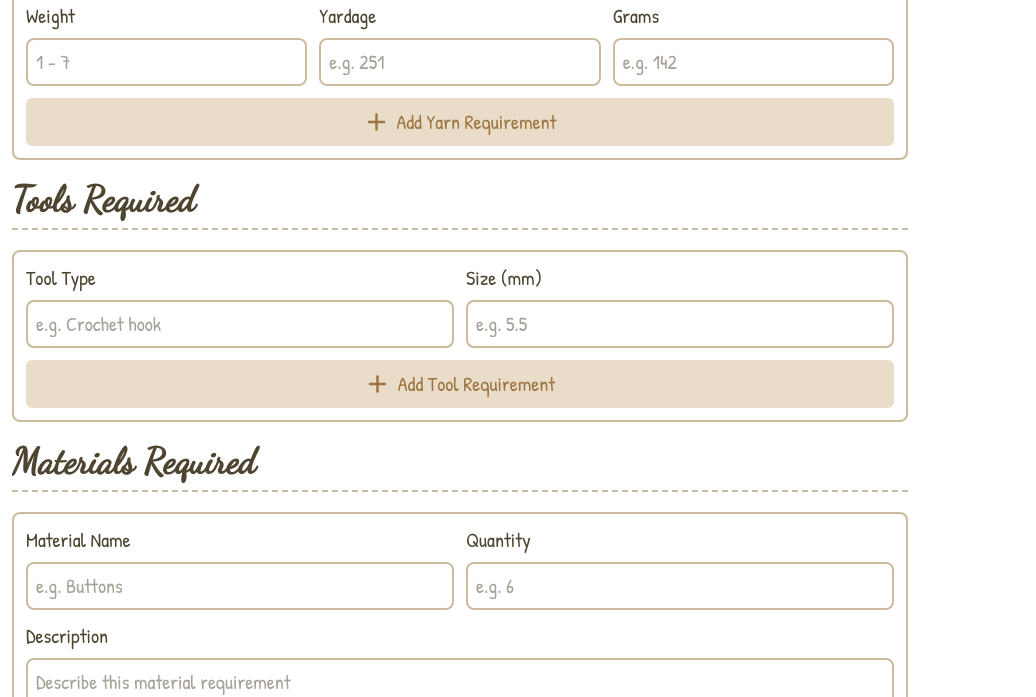
it: AdminAddPattern tool requirements › validates tools without validating the pattern fields
(page scrolled)
Click the button "Add Tool Requirement".
click(460, 384)  # box [26,360,894,408]
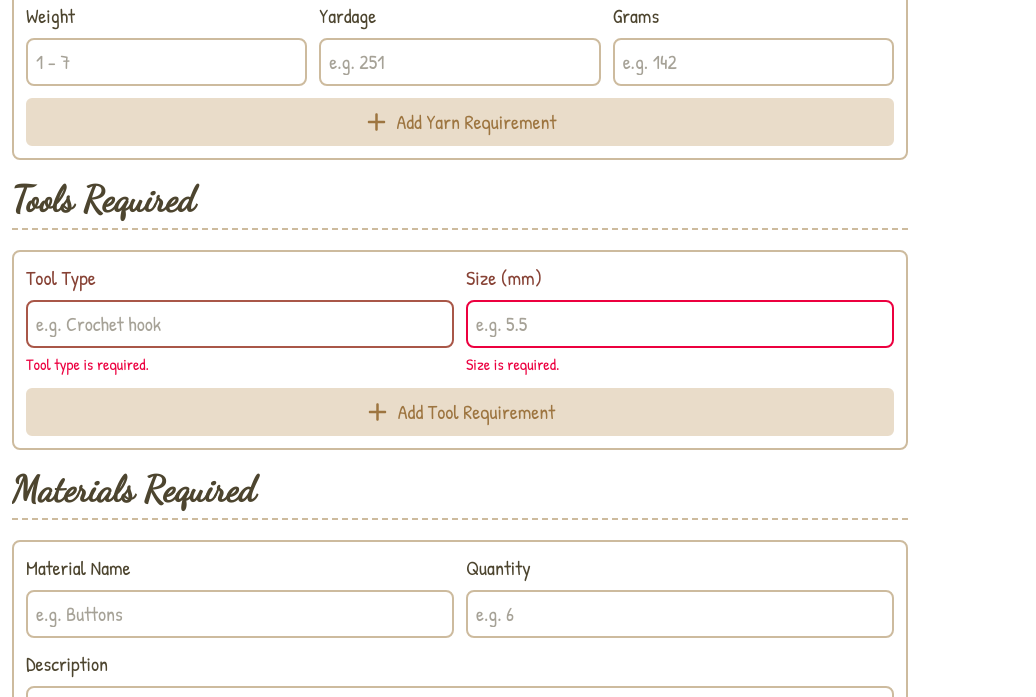
Result: the text "Tool type is required." is shown at [26,353,149,375]
